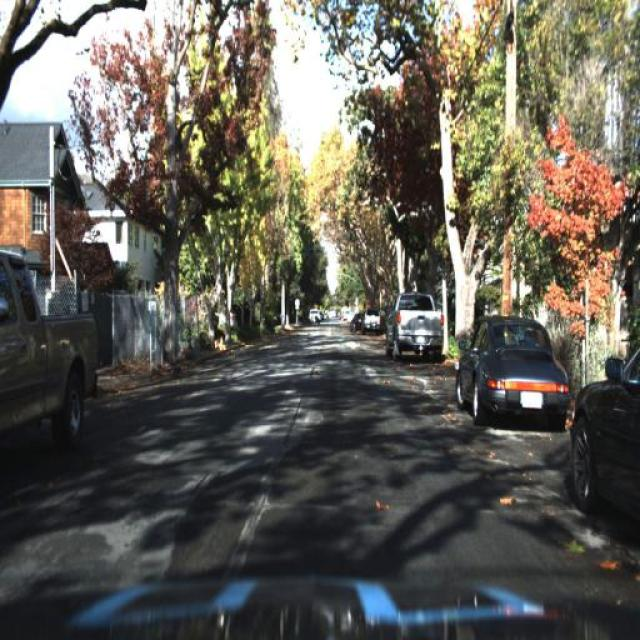car: (0, 246, 101, 466), (444, 300, 570, 440), (565, 342, 640, 549), (449, 308, 569, 416), (383, 280, 448, 372), (385, 293, 443, 352), (358, 306, 379, 340), (362, 305, 382, 331), (350, 310, 366, 330)
